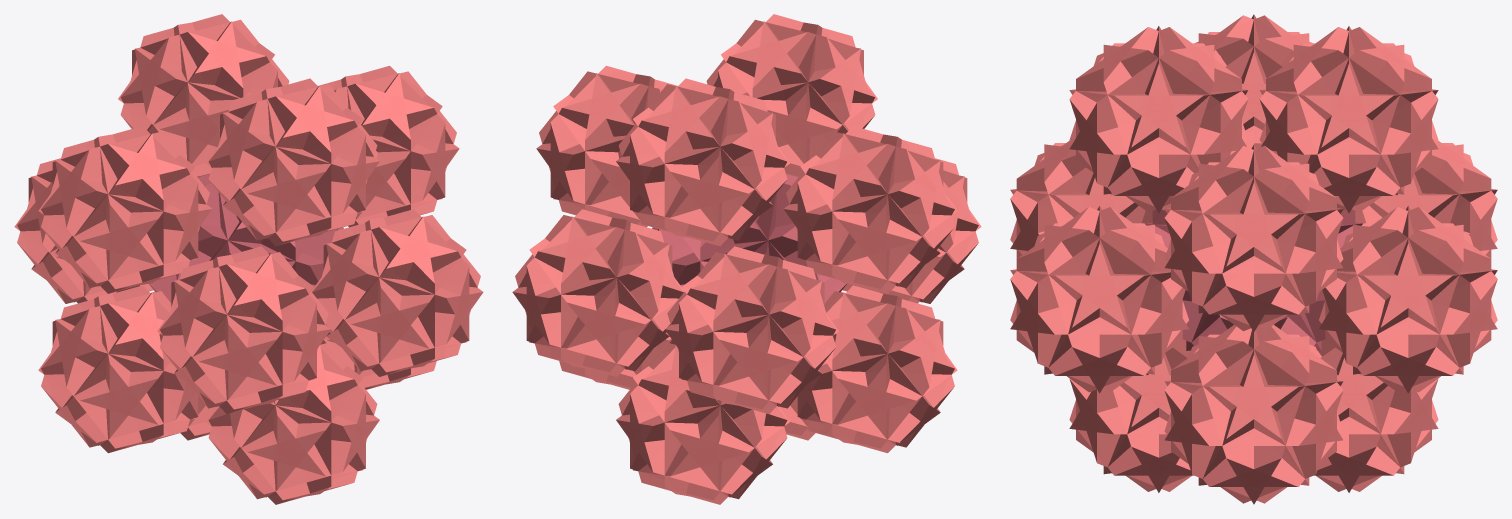
File: fractaltruncatedgreaticosahedron1.glb
3 views of the same model, side by side, from view 1: azimuth 30°, elevation 25°; view 2: azimuth 150°, elevation 25°; view 3: azimuth 270°, elevation 25° (orthographic). The views are drawn at different scales.
Bounding box in the file's own units: 9.51 × 9.51 × 9.51.
